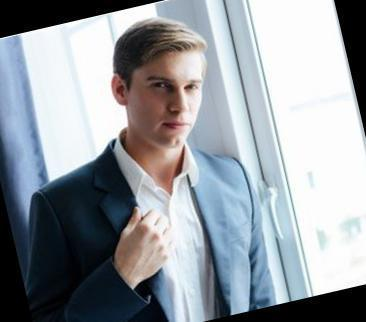Sober: (136, 55, 204, 146)
